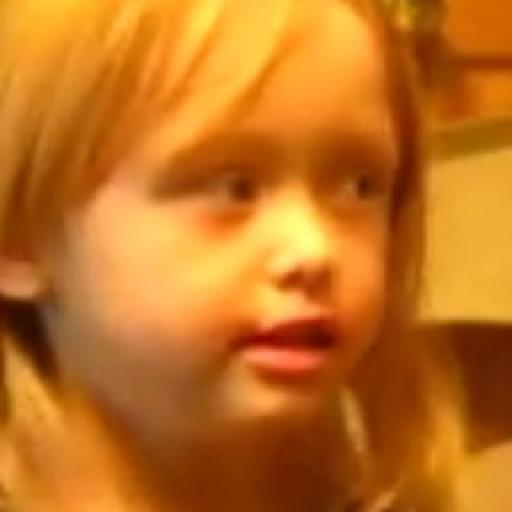Autism: (48, 14, 512, 480)
